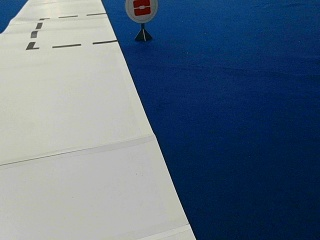company: (125, 0, 158, 23)
